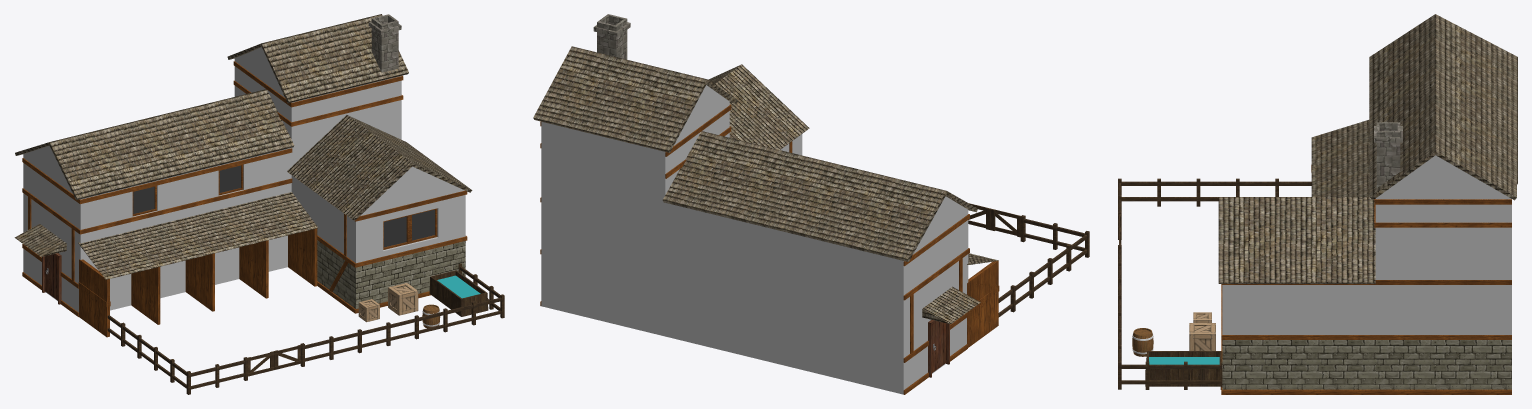
File: Estabulo.fbx
3 renders of one model, left to right at view 1: azimuth 30°, elevation 25°; view 2: azimuth 150°, elevation 25°; view 3: azimuth 270°, elevation 25°, orthographic. The views are drawn at different scales.
Visible parts, largest first — view 1: Telhado Estabulo, Estábulo, Cube.014, Estábulo.001, Cerca Estabulo, House 1.020, bebedouro, caixa 2, Porta Estabulo, caixa 1; view 2: Estábulo, Telhado Estabulo, Estábulo.001, Cerca Estabulo, Cube.014, Porta Estabulo, Porta Cerca 1; view 3: Estábulo, Telhado Estabulo, Estábulo.001, Cerca Estabulo, bebedouro, caixa 2, Barril.
Boxes of the visible parts, left/top/right/bottom form: Telhado Estabulo: left=14, top=14, right=472, bottom=279; Estábulo: left=23, top=14, right=465, bottom=312; Cube.014: left=78, top=228, right=317, bottom=337; Estábulo.001: left=22, top=61, right=467, bottom=316; Cerca Estabulo: left=107, top=263, right=504, bottom=394; House 1.020: left=132, top=164, right=437, bottom=249; bebedouro: left=429, top=270, right=488, bottom=316; caixa 2: left=388, top=283, right=418, bottom=315; Porta Estabulo: left=42, top=253, right=61, bottom=304; caixa 1: left=358, top=299, right=379, bottom=322; Estábulo: left=541, top=14, right=968, bottom=394; Telhado Estabulo: left=533, top=46, right=998, bottom=324; Estábulo.001: left=540, top=104, right=969, bottom=394; Cerca Estabulo: left=998, top=215, right=1089, bottom=317; Cube.014: left=967, top=261, right=999, bottom=347; Porta Estabulo: left=928, top=319, right=949, bottom=377; Porta Cerca 1: left=990, top=208, right=1020, bottom=237; Estábulo: left=1222, top=122, right=1511, bottom=389; Telhado Estabulo: left=1218, top=14, right=1517, bottom=283; Estábulo.001: left=1221, top=199, right=1511, bottom=394; Cerca Estabulo: left=1118, top=178, right=1311, bottom=389; bebedouro: left=1145, top=351, right=1221, bottom=386; caixa 2: left=1189, top=323, right=1215, bottom=350; Barril: left=1132, top=328, right=1153, bottom=356.
Size of the model in its own units: 3037 by 1800 by 2503.
